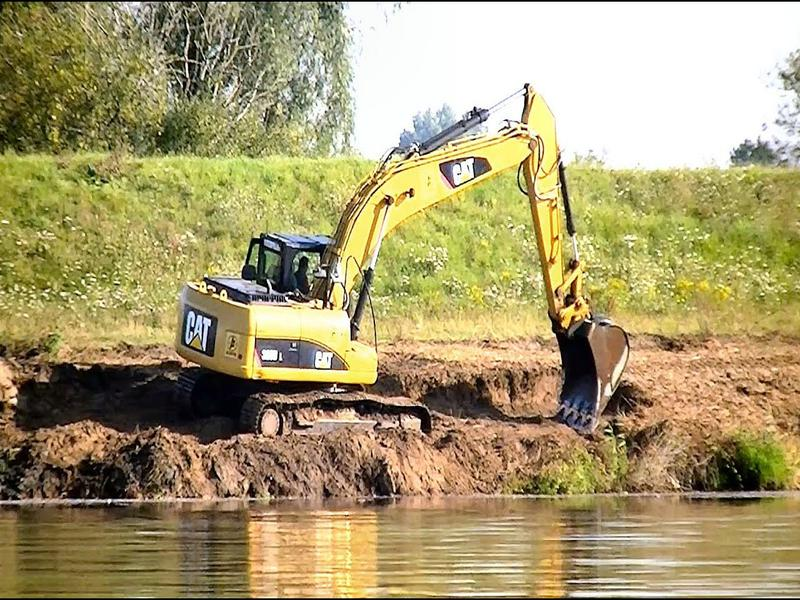shovel: (166, 78, 639, 441)
